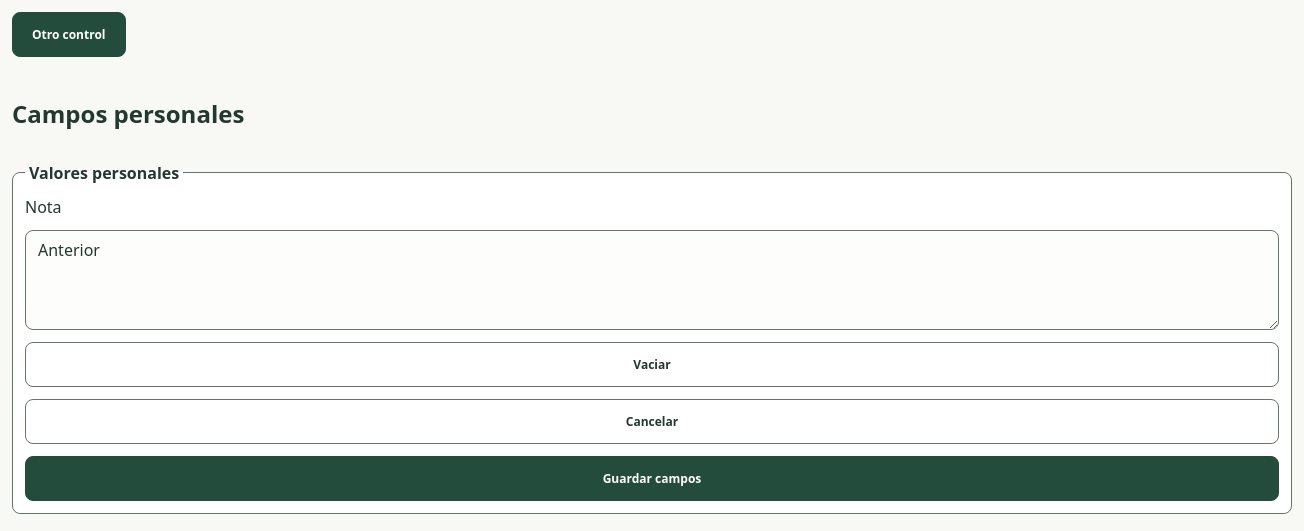
Scenario: @s35 keeps a503 write uncertain without withdrawing the resource
Replace the text in the text box labelled "Nota" with "Borrador" at (652, 280), box [25,230,1279,330]
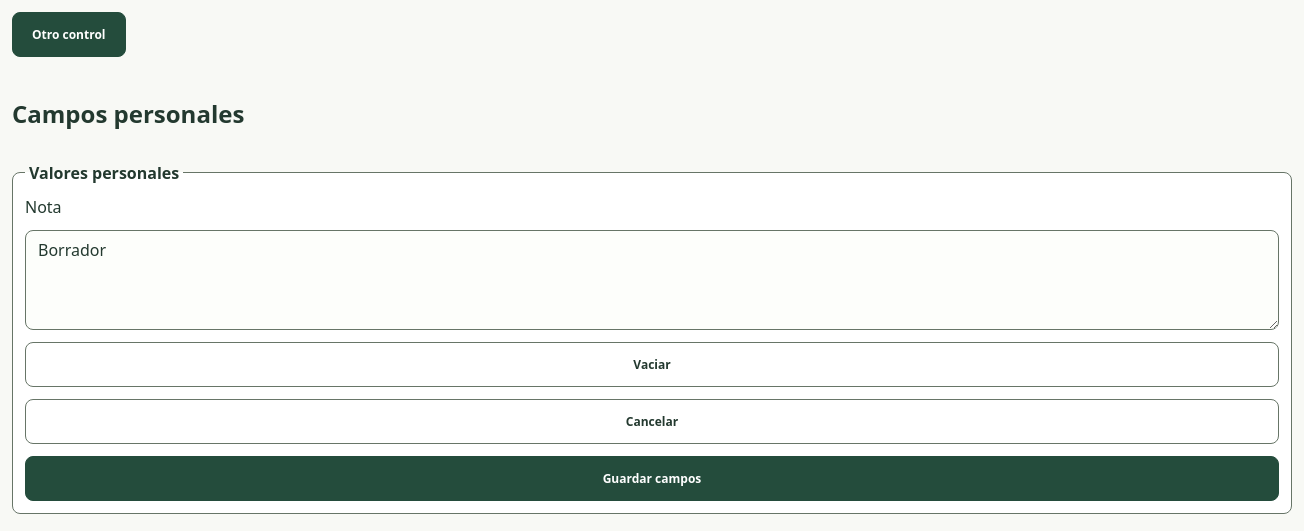
Click the button "Guardar campos" at (652, 478), box [25,456,1279,501]
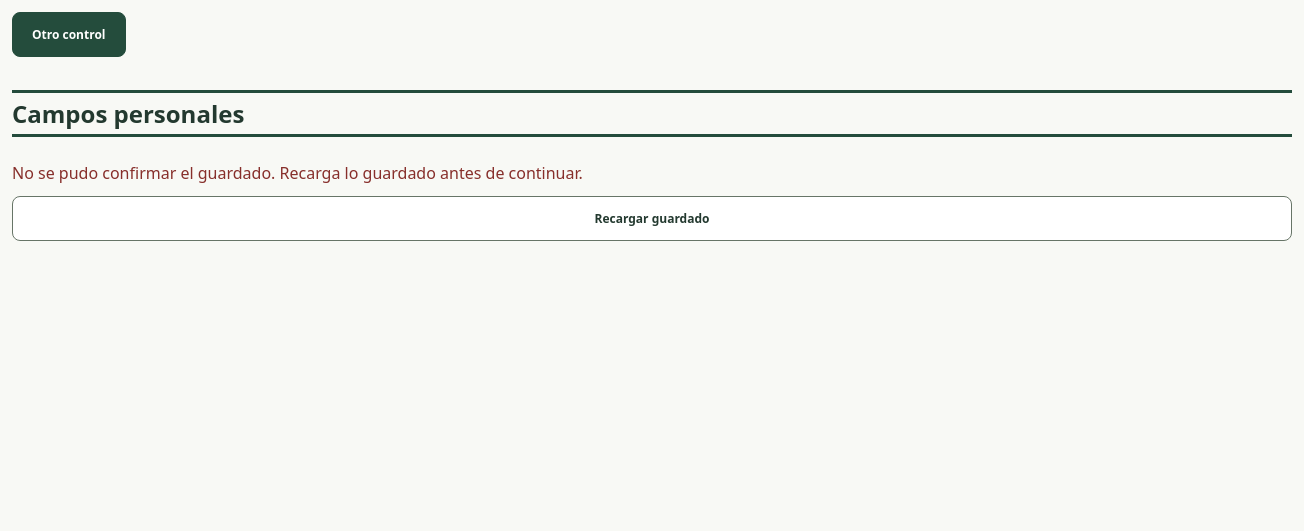
Expected: the heading "Campos personales" is shown, [12,97,244,130]
Now the button "Recargar guardado" is shown, box [12,196,1292,241]
